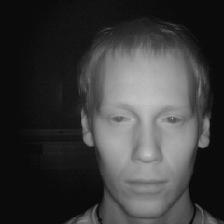happy: (77, 26, 218, 214)
